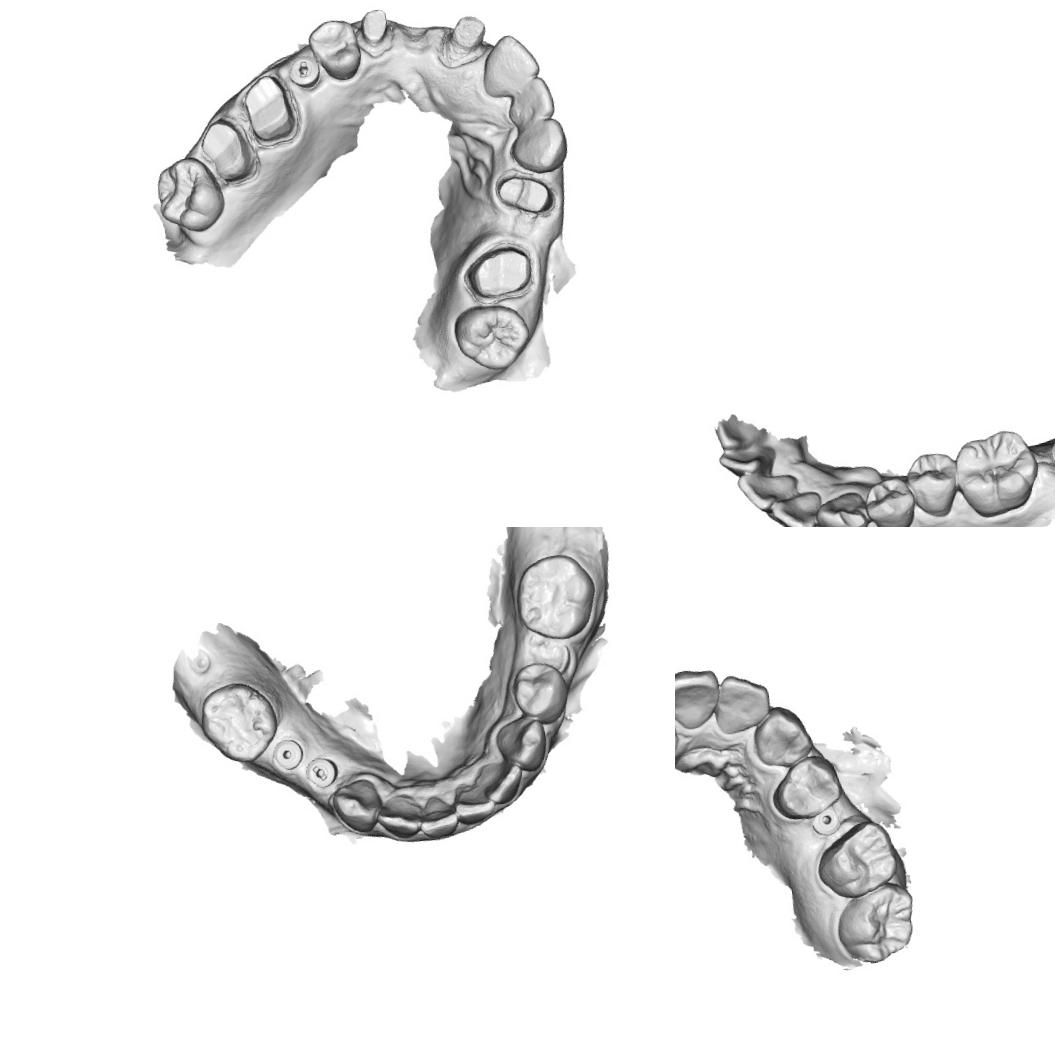canine: (746, 700, 819, 772), (504, 115, 572, 178), (325, 774, 388, 840), (490, 712, 554, 776), (812, 488, 872, 527)
crown: (460, 240, 536, 305), (238, 69, 300, 147), (195, 114, 258, 188), (492, 166, 557, 222), (444, 9, 492, 59), (355, 2, 396, 52)
implant: (269, 736, 307, 773), (808, 804, 847, 837)
implant_minus: (302, 753, 341, 792), (285, 52, 322, 92)
incisor: (474, 30, 544, 102), (709, 668, 776, 737), (734, 465, 802, 516), (500, 74, 558, 130), (675, 663, 721, 731), (372, 790, 424, 844), (715, 440, 779, 482), (448, 778, 499, 828), (479, 756, 527, 807), (767, 487, 827, 527), (414, 792, 460, 842)
molar: (948, 424, 1045, 524), (508, 548, 604, 648), (193, 674, 286, 770), (831, 880, 924, 969), (809, 818, 902, 902), (150, 151, 230, 240), (449, 298, 536, 378)
premolar: (766, 750, 846, 823), (304, 9, 368, 87), (506, 658, 574, 729), (902, 448, 964, 522), (861, 473, 921, 527)
